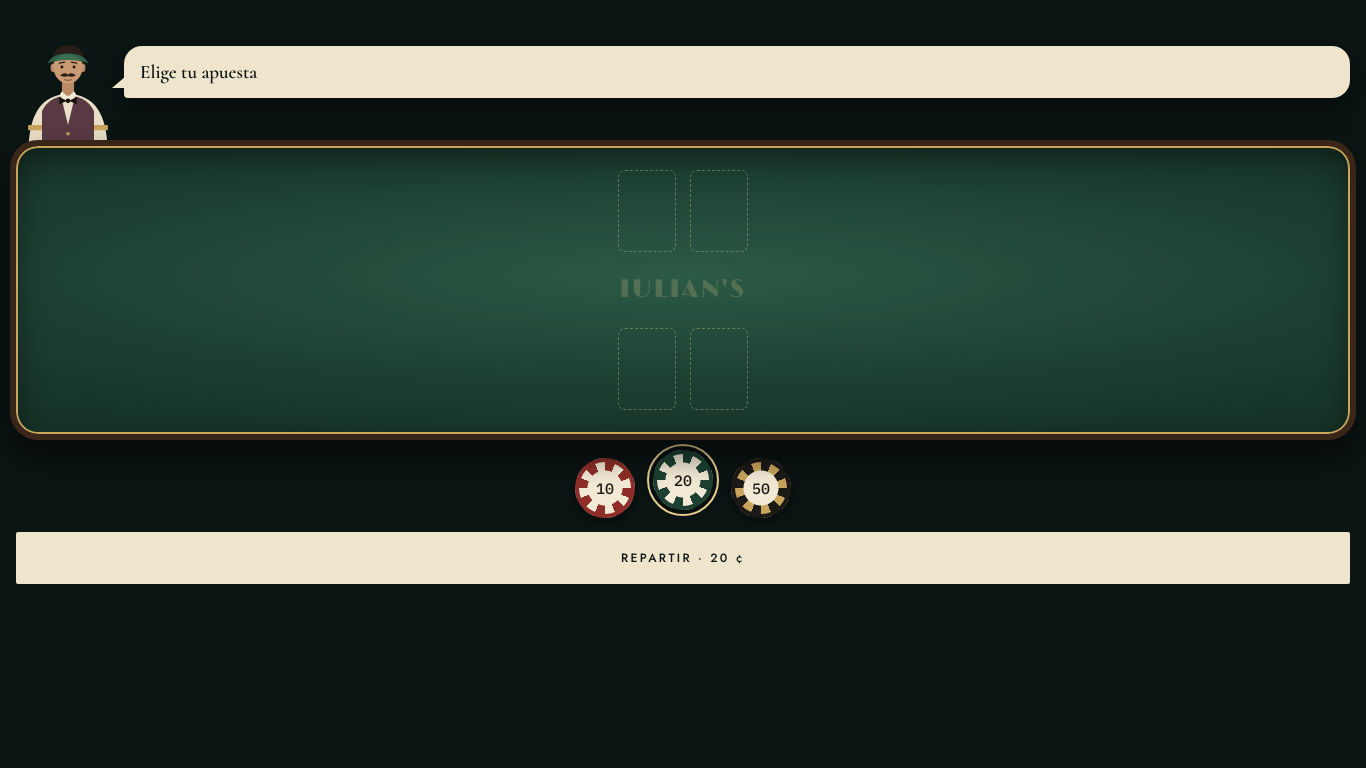
Test: BlackjackTable › betting › deals the chosen bet with an idempotency key and shows the hand
Click the button with class "bet-chip" showing "10": coordinates (605, 488) [575,458,635,518]
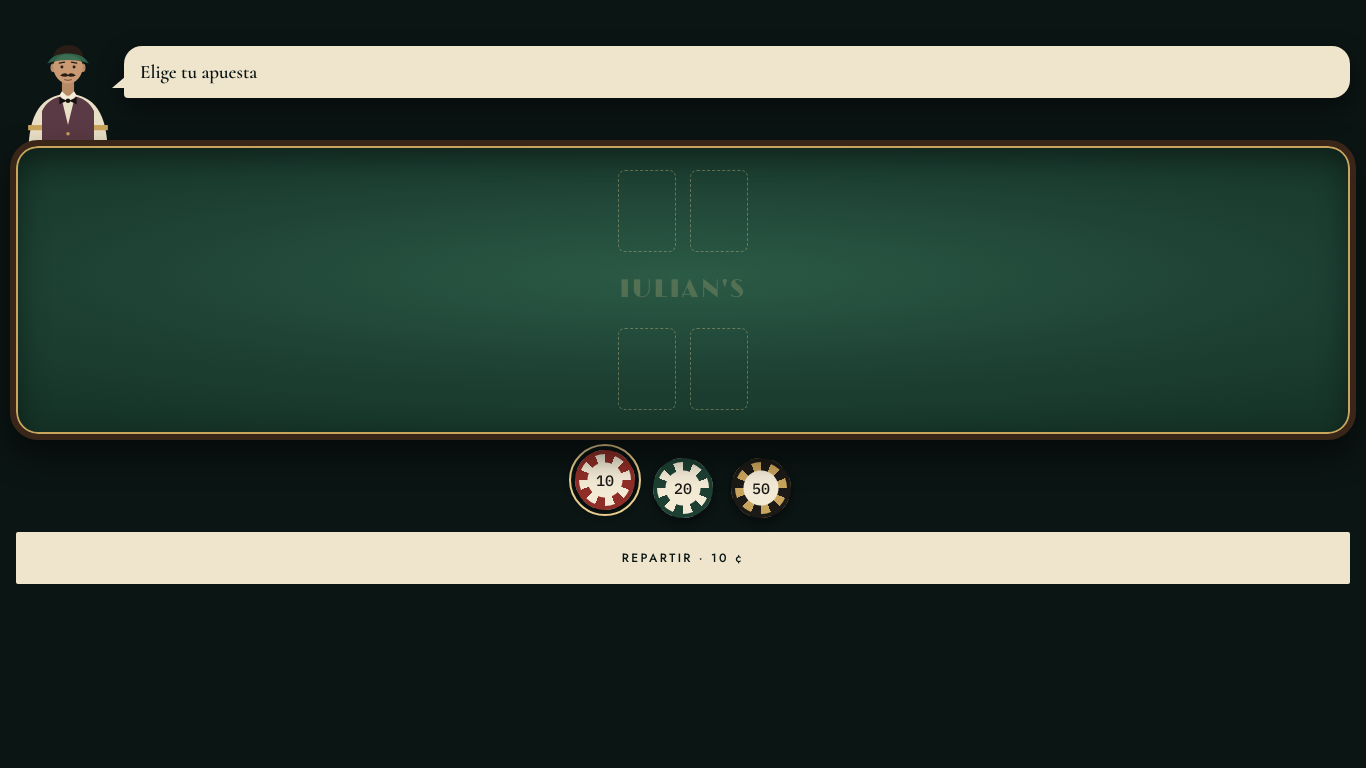
Click the button with class "action": coordinates (683, 558) [16,532,1350,584]
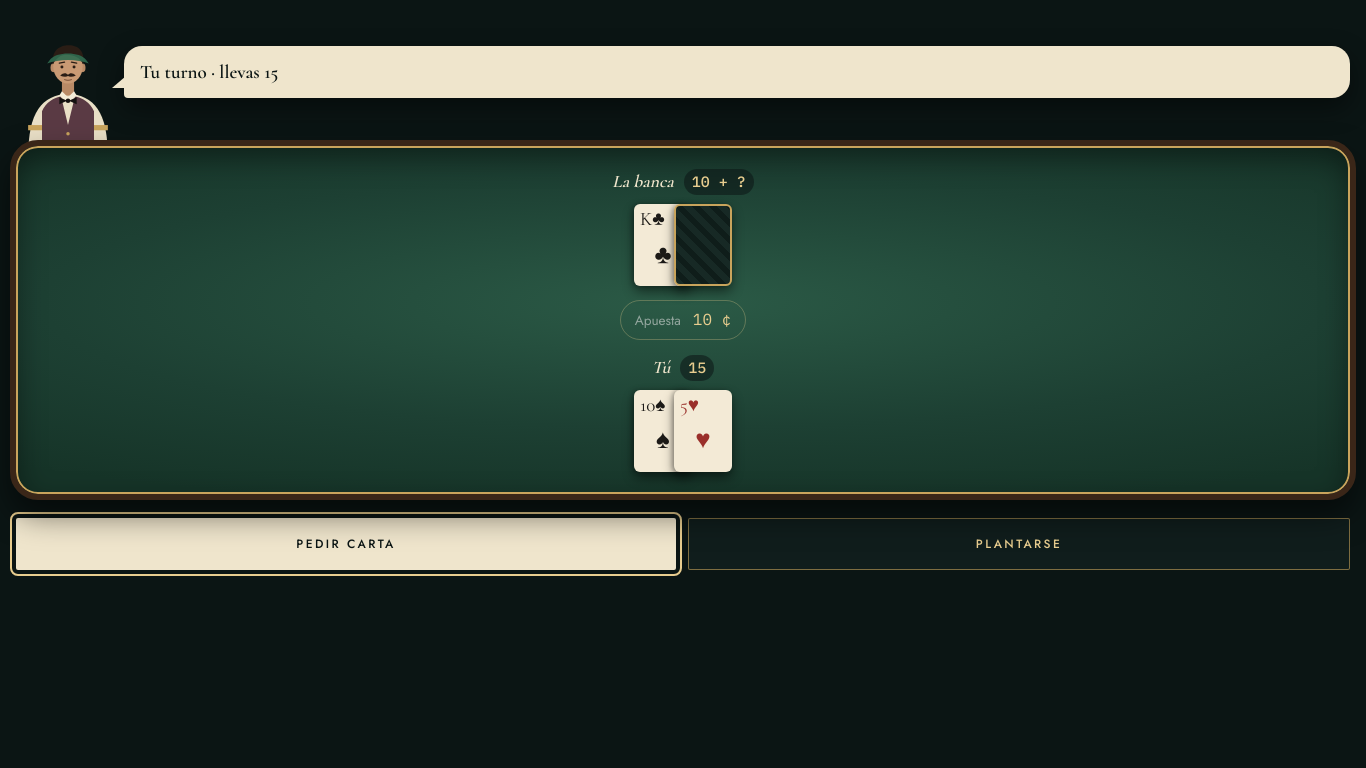
Result: the number of lists with class "hand" is 2 at [634,204,732,286]; [634,390,732,472]
